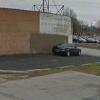Car: (52, 34, 82, 58)
